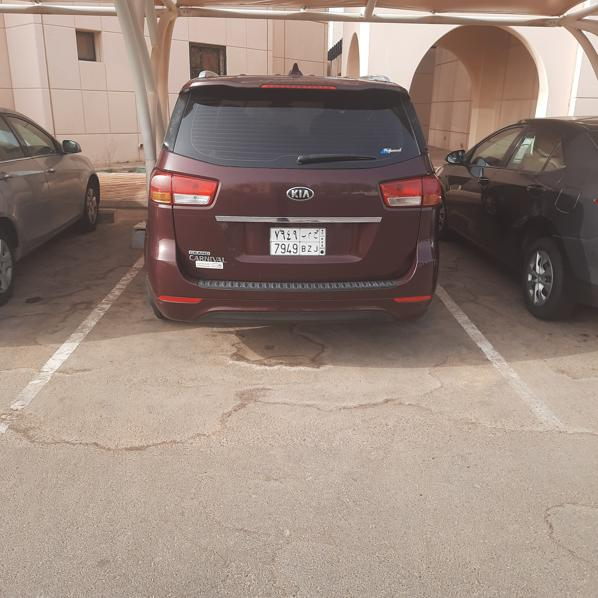numberplate: (270, 227, 325, 255)
